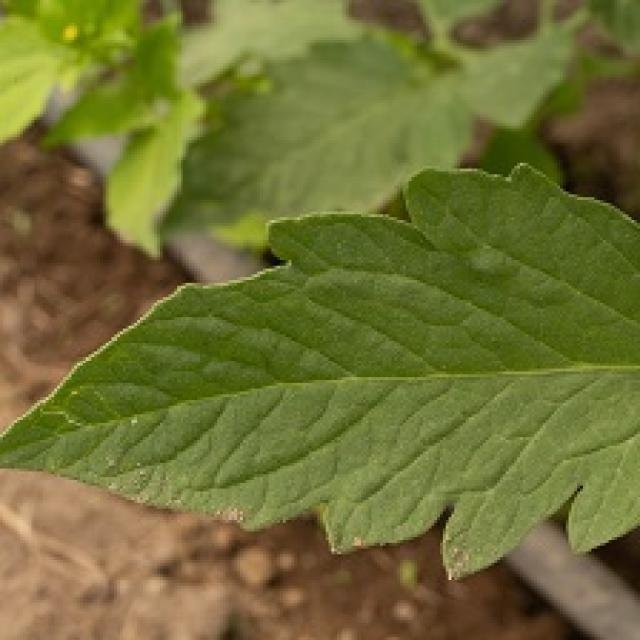Healthy: (0, 165, 637, 573)
